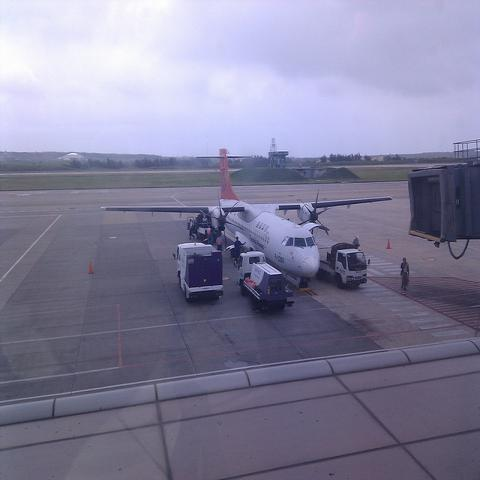truck: (237, 251, 290, 314), (173, 241, 223, 301), (316, 241, 370, 289)
